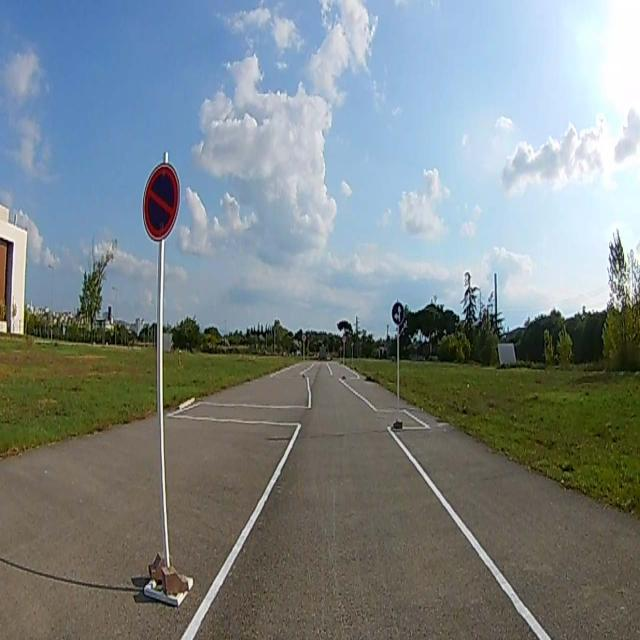ilerisol: (392, 301, 404, 327)
parkyasak: (143, 166, 180, 238)
